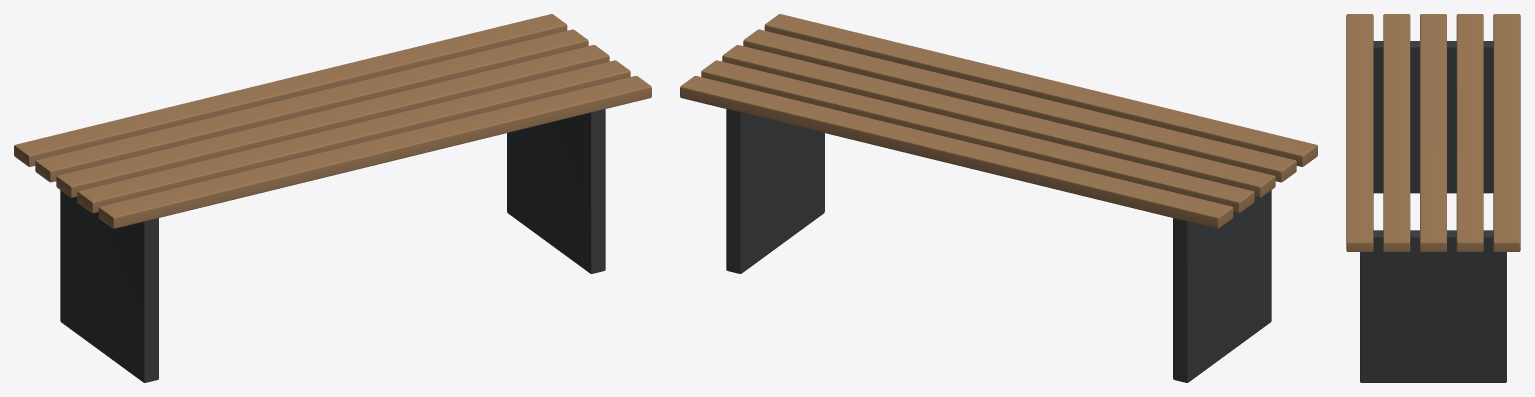
File: prop_bench_corridor.glb
3 renders of one model, left to right at view 1: azimuth 30°, elevation 25°; view 2: azimuth 150°, elevation 25°; view 3: azimuth 270°, elevation 25°, orthographic. The views are drawn at different scales.
Visible parts, largest first — view 1: Bench; view 2: Bench; view 3: Bench.
Part boxes in pixels (bbox=[...]): Bench: bbox=[14, 14, 651, 382]; Bench: bbox=[680, 14, 1317, 382]; Bench: bbox=[1346, 14, 1520, 382].
Size of what is drawn, in the model's own units: 1.4 by 0.45 by 0.45.
